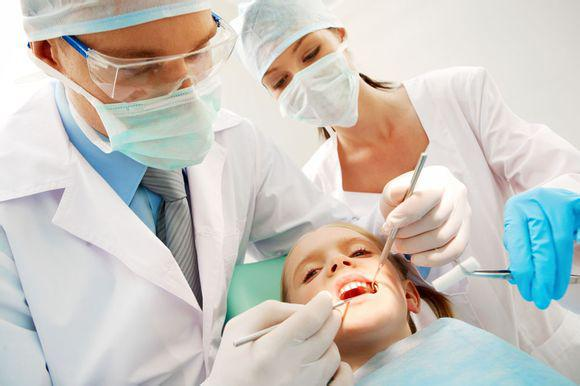NONE: (300, 241, 390, 335)
OK: (87, 35, 222, 170), (270, 45, 361, 128)
